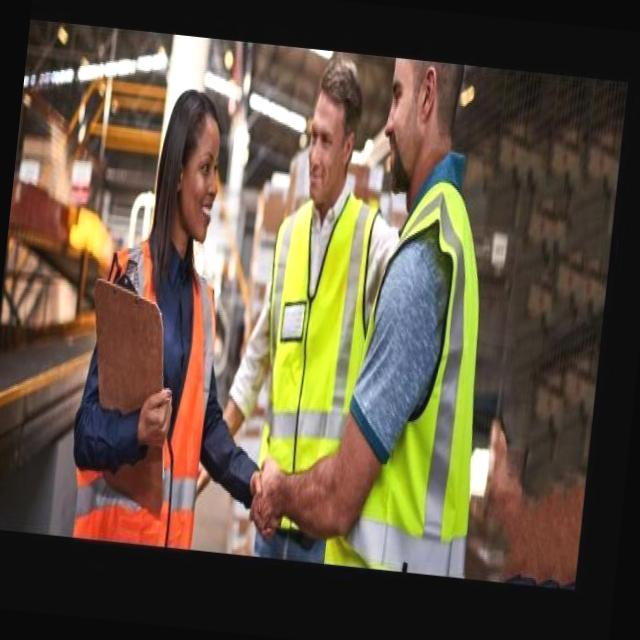vest: (342, 202, 516, 598), (244, 184, 383, 532), (64, 258, 224, 555)
